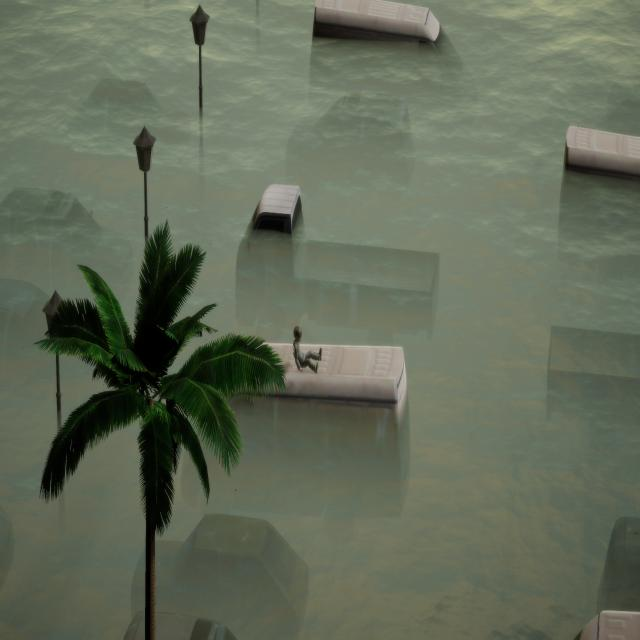Human: (290, 314, 326, 381)
